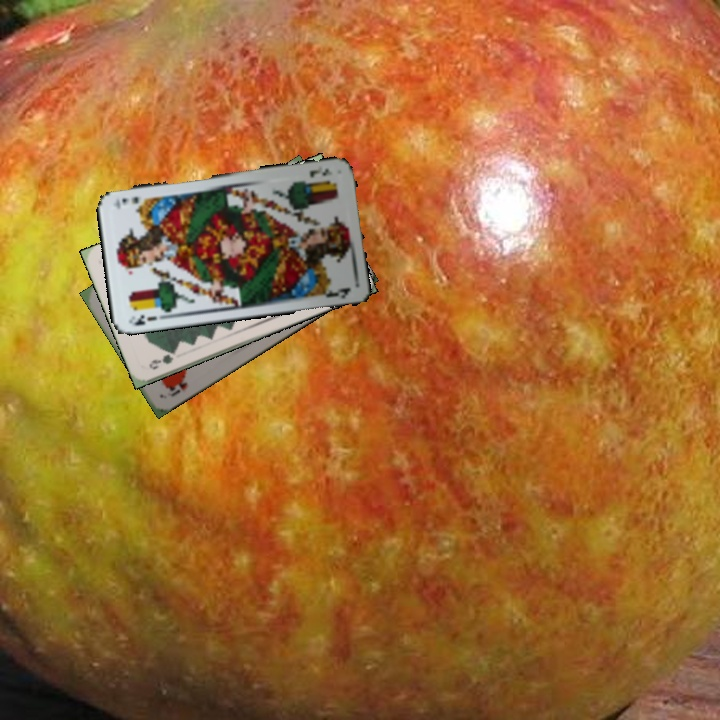EK: (127, 310, 160, 328), (305, 162, 335, 180)
G9: (145, 346, 179, 372)
HO: (162, 378, 190, 399)
